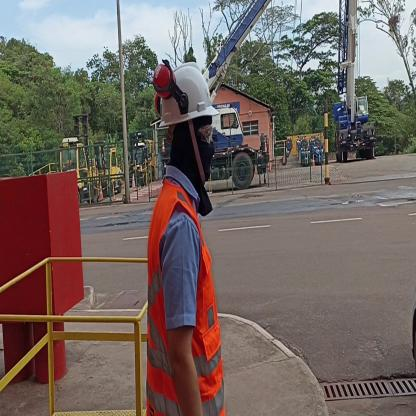Balaclava: (168, 119, 217, 185)
Capacete: (156, 62, 220, 119)
colete: (146, 185, 226, 415)
